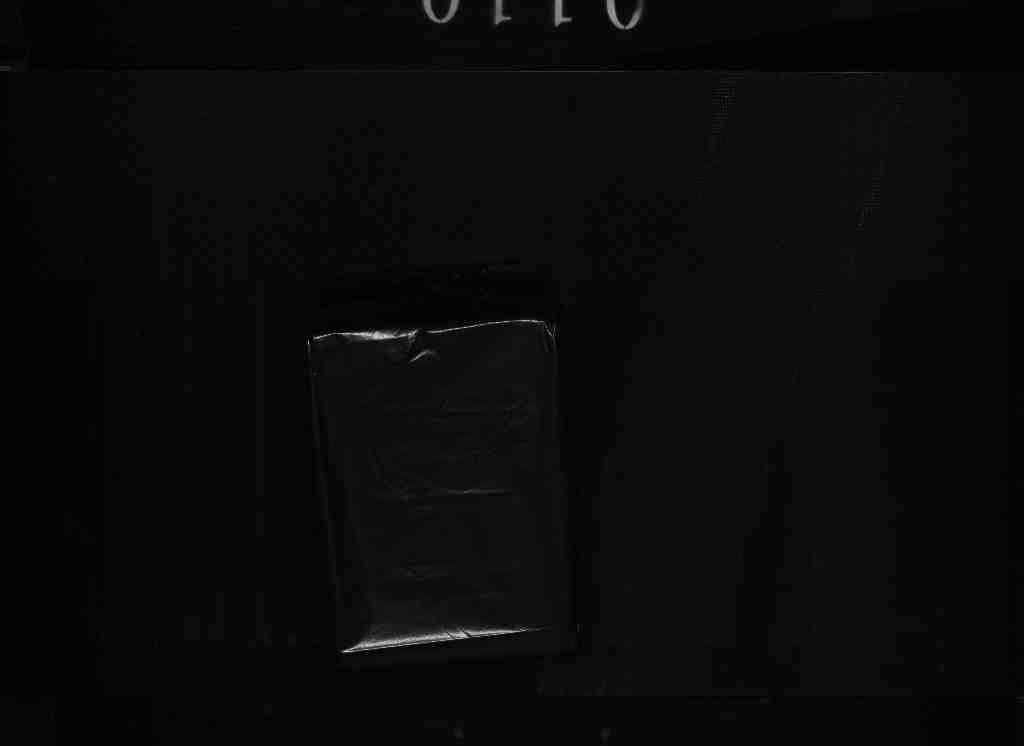box: (292, 304, 585, 677)
